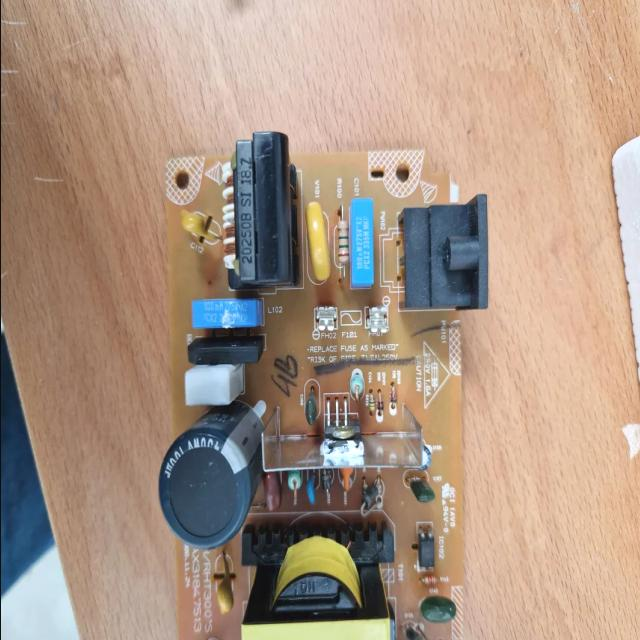C: (158, 400, 262, 549)
D: (338, 204, 348, 284), (418, 575, 437, 585), (390, 383, 396, 408), (377, 392, 382, 416), (368, 394, 373, 414)
E: (305, 201, 330, 281), (180, 208, 214, 242), (216, 556, 234, 614)
